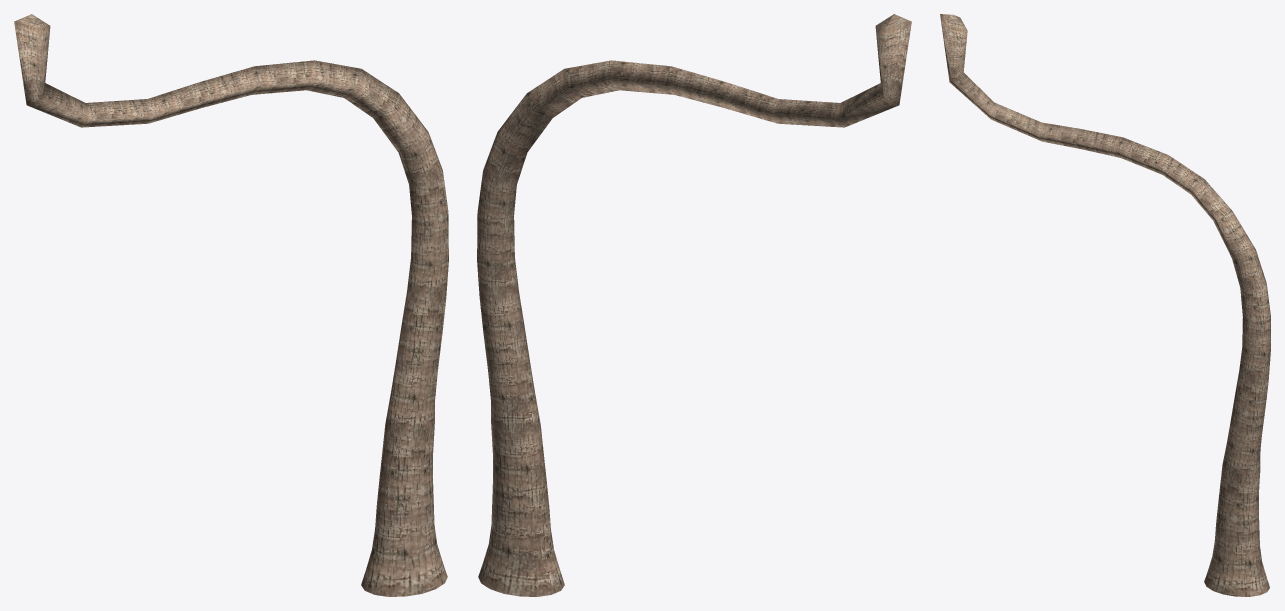
Rendered from m_palm_p2_14_trunk_0.glb.
The picture shows the model from 3 angles, left to right: view 1: azimuth 30°, elevation 25°; view 2: azimuth 150°, elevation 25°; view 3: azimuth 330°, elevation 25°; orthographic projection. The views are drawn at different scales.
Visible parts, largest first — view 1: M_Palm_P2_14_Trunk_0; view 2: M_Palm_P2_14_Trunk_0; view 3: M_Palm_P2_14_Trunk_0.
Boxes of the visible parts, <box> form: M_Palm_P2_14_Trunk_0: <box>14,14,448,596</box>; M_Palm_P2_14_Trunk_0: <box>477,14,911,596</box>; M_Palm_P2_14_Trunk_0: <box>940,14,1270,596</box>.
Size of the model in its own units: 2.43 by 3.51 by 0.3401.
1 material, 1 textured.
